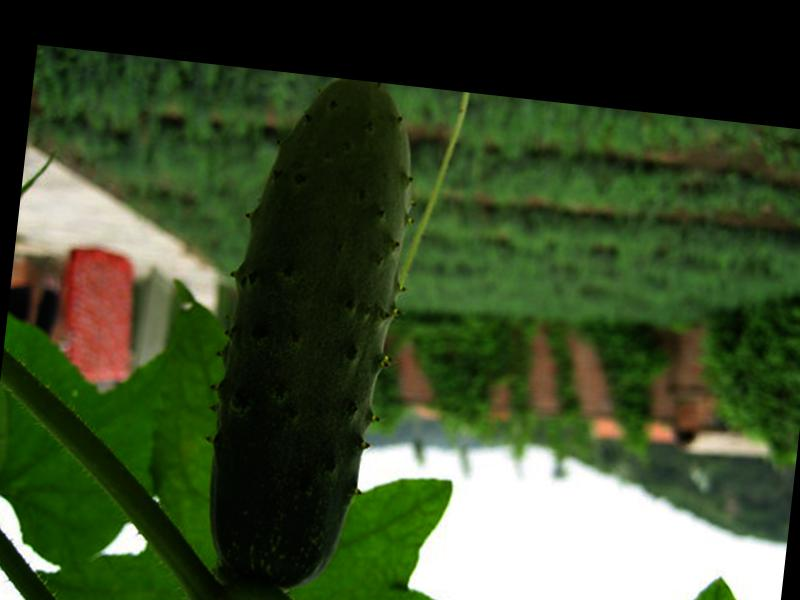Cucumber: (199, 70, 419, 597)
